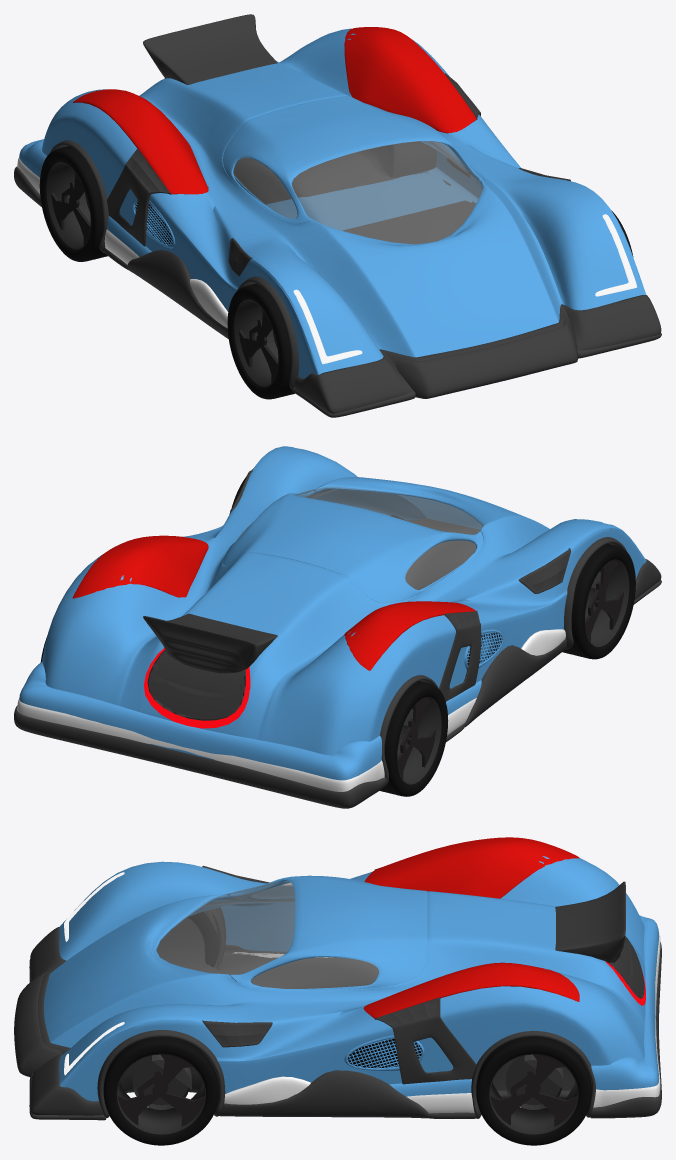
The picture shows the model from 3 angles, top to bottom: view 1: azimuth 30°, elevation 25°; view 2: azimuth 150°, elevation 25°; view 3: azimuth 270°, elevation 25°; orthographic projection.
Parts seen in each view (by area): view 1: body_paint_base, body_glass, body_paint_trim_sole, body_paint_accent_2, body_paint_trim_sole_back, body_paint_accent_3, body_paint_trim_top, tire_speed (×2), rim_barrel_speed (×2), body_paint_tire_well, rim_face_speed (×2), body_paint_accent_1 (+3 smaller); view 2: body_paint_base, body_paint_accent_3, body_paint_trim_top, body_paint_accent_2, body_paint_trim_sole_back, tire_speed (×2), body_glass, body_paint_trim_sole, body_paint_trim_mid, rim_barrel_speed (×2), rim_face_speed (×2), body_paint_tire_well (+3 smaller); view 3: body_paint_base, body_paint_trim_sole, body_glass, body_paint_accent_2, tire_speed (×3), body_paint_accent_3, body_paint_trim_sole_back, body_paint_trim_top, rim_face_speed (×2), body_paint_tire_well, rim_barrel_speed (×2), body_paint_accent_1 (+5 smaller).
Part boxes in pixels (x1,y1,x2,y2): body_paint_base: (42,28,646,378); body_glass: (233,141,482,244); body_paint_trim_sole: (127,200,661,413); body_paint_accent_2: (73,27,476,194); body_paint_trim_sole_back: (14,145,661,417); body_paint_accent_3: (107,14,480,246); body_paint_trim_top: (19,139,477,256); tire_speed (×2): (39,146,294,399); rim_barrel_speed (×2): (46,162,278,387); body_paint_tire_well: (50,140,436,388); rim_face_speed (×2): (51,172,278,383); body_paint_accent_1: (126,73,570,276); body_paint_base: (42,446,646,755); body_paint_accent_3: (143,613,481,720); body_paint_trim_top: (19,662,481,780); body_paint_accent_2: (72,535,475,670); body_paint_trim_sole_back: (14,515,661,808); tire_speed (×2): (379,544,635,796); body_glass: (236,486,482,589); body_paint_trim_sole: (405,519,661,726); body_paint_trim_mid: (17,698,476,791); rim_barrel_speed (×2): (397,559,629,784); rim_face_speed (×2): (397,560,623,779); body_paint_tire_well: (379,537,626,785); body_paint_base: (43,856,645,1101); body_paint_trim_sole: (30,910,429,1118); body_glass: (156,881,379,988); body_paint_accent_2: (363,837,579,1018); tire_speed (×3): (103,912,591,1145); body_paint_accent_3: (392,881,644,1084); body_paint_trim_sole_back: (14,942,661,1120); body_paint_trim_top: (389,915,659,1096); rim_face_speed (×2): (118,1054,577,1126); body_paint_tire_well: (97,907,595,1118); rim_barrel_speed (×2): (116,1053,578,1134); body_paint_accent_1: (202,865,440,1047).
Size of the model in its own units: 2.54 by 1.09 by 4.06.
